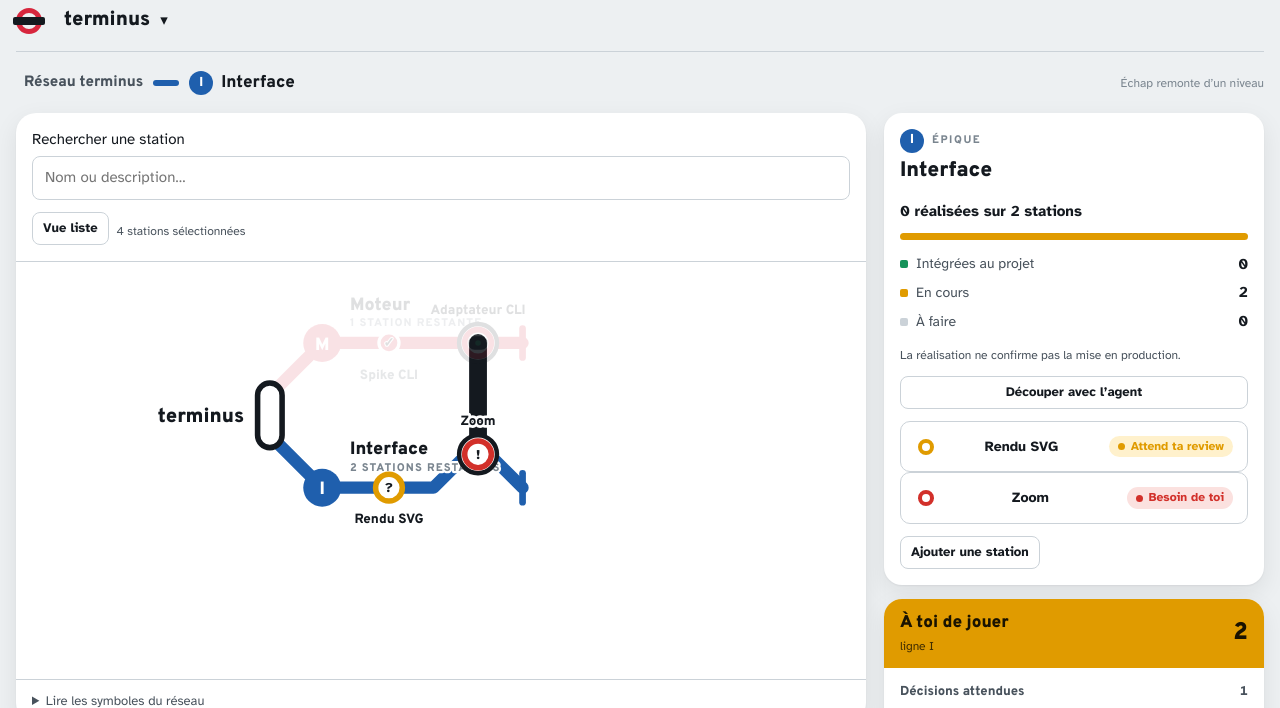
Test: the cockpit › opens a station from a line over the same map, and goes back to it with the search kept
Expected: the picture named "Plan du réseau de terminus" is shown, [16,262,851,680]
Type "zoom" into the search field labelled "Rechercher une station".
click(441, 178); type("zoom")  # box [32,156,850,200]
(page scrolled)
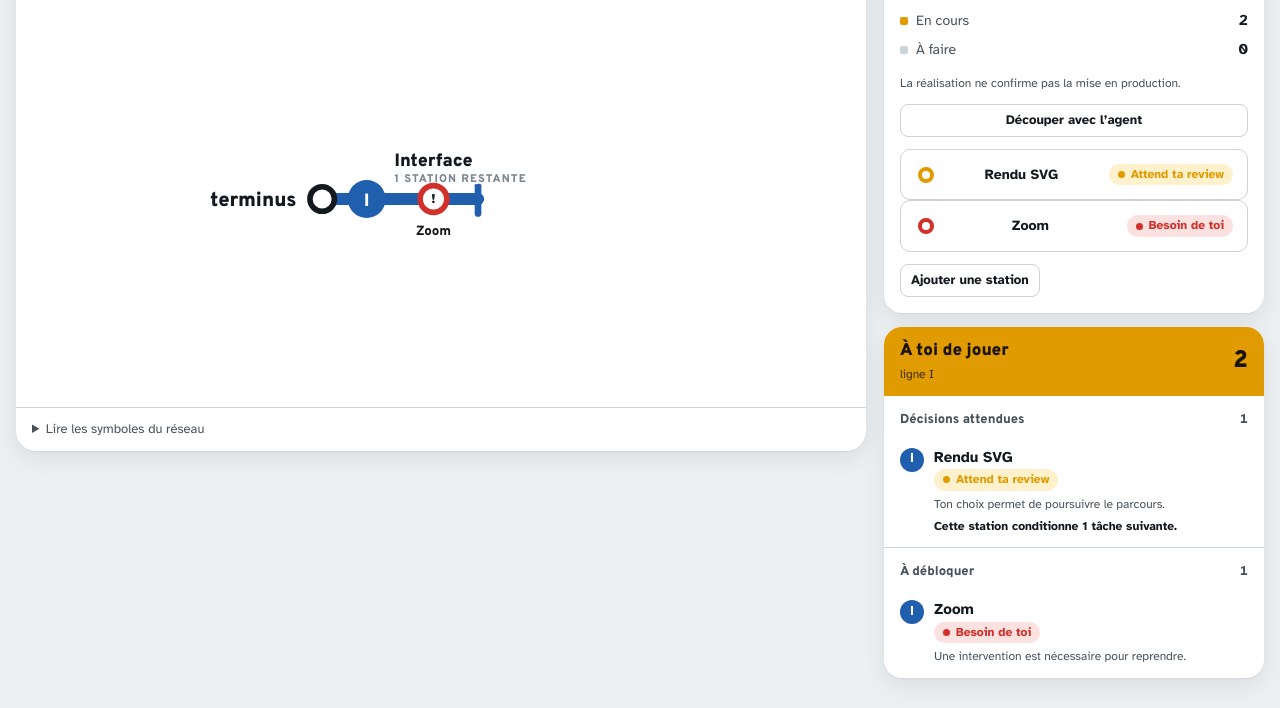
Click the button "Rendu SVG".
click(973, 457)  # box [884,436,1264,547]
(page scrolled)
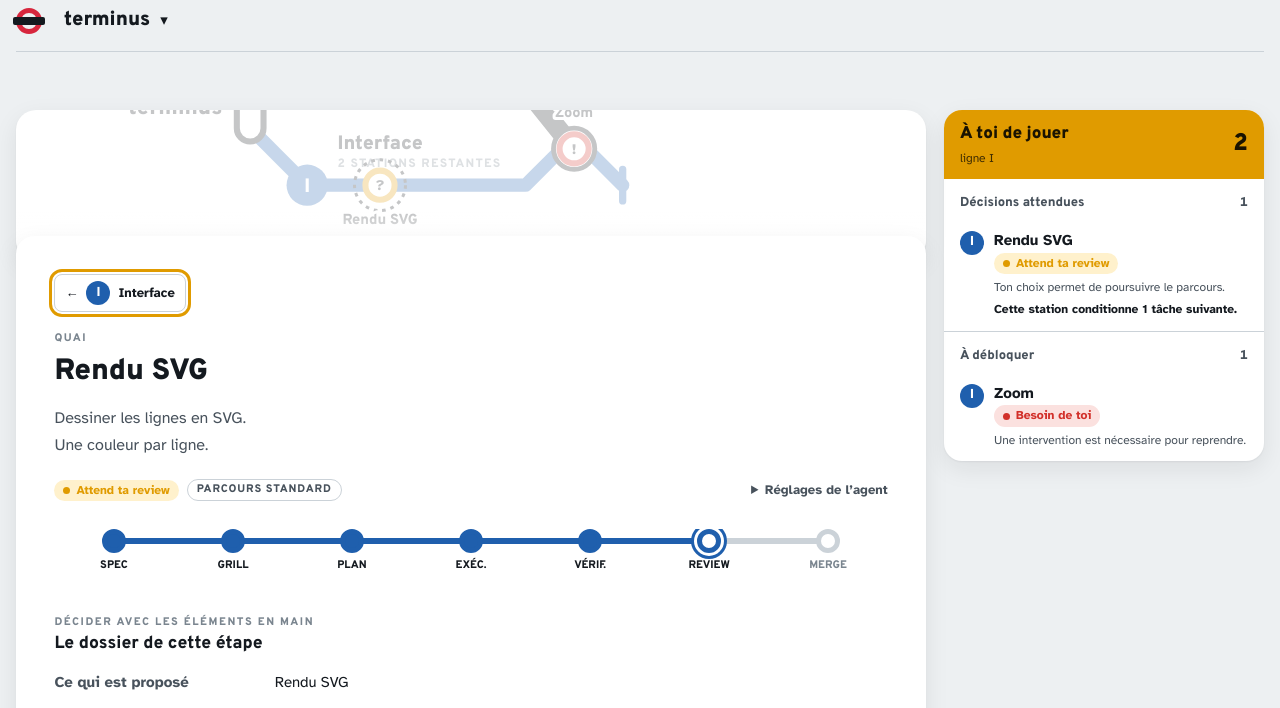
Click the button with aria-label "Revenir à la ligne Interface".
click(120, 293)  # box [54,274,186,312]
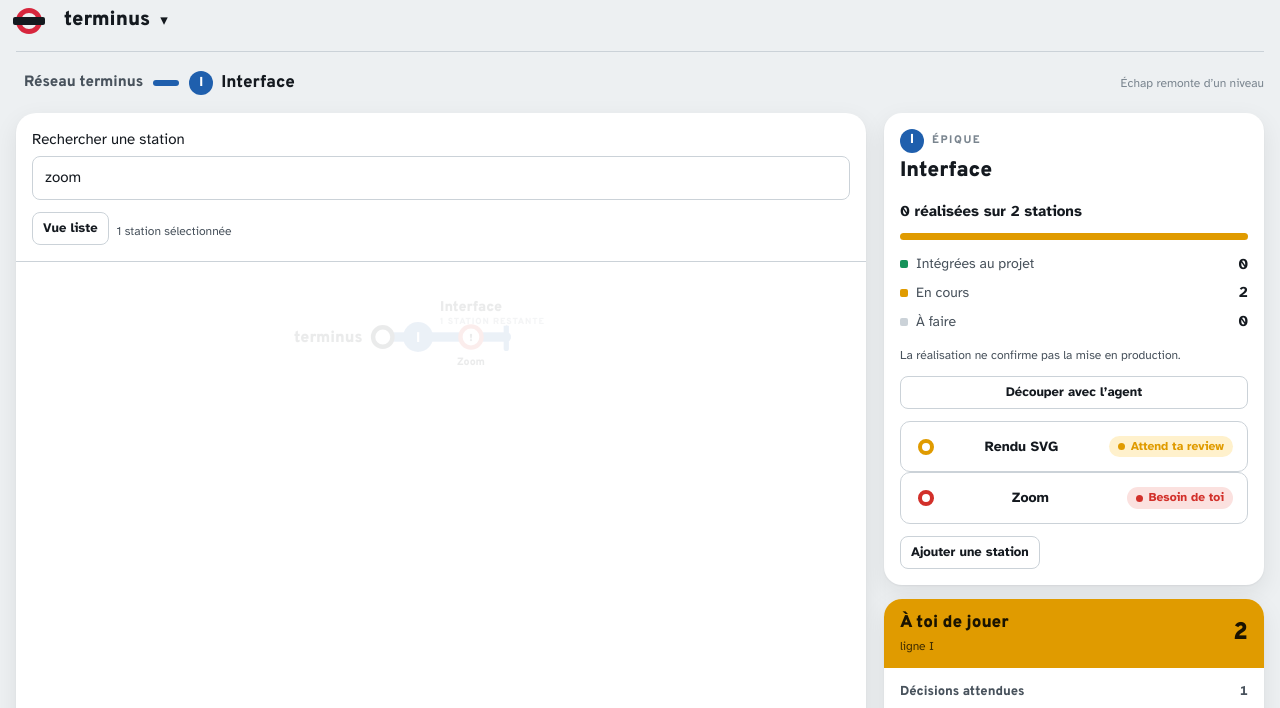
Expected: the search field labelled "Rechercher une station" holds "zoom", [32,156,850,200]
